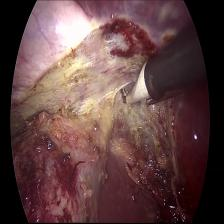Hook: (109, 47, 153, 128)
